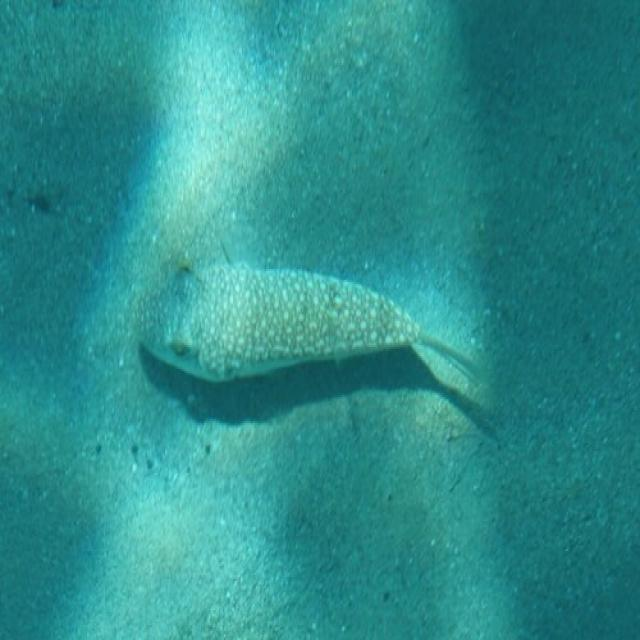Balik: (139, 266, 473, 382)
